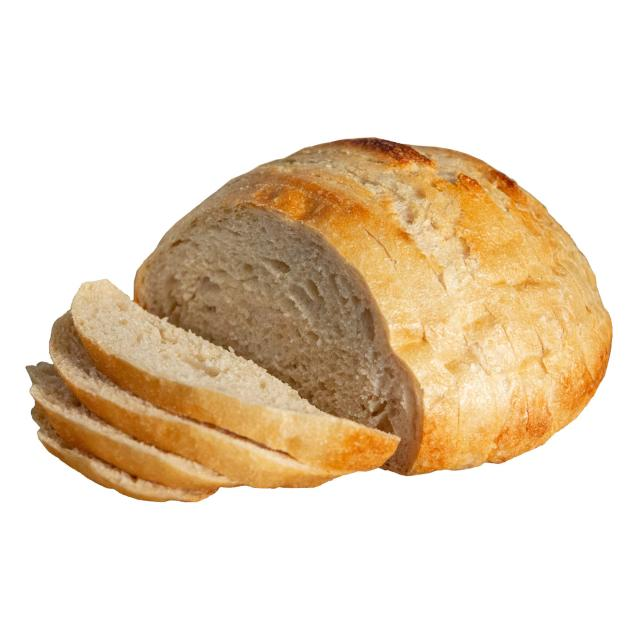Maltese-Bread: (135, 138, 612, 475)
